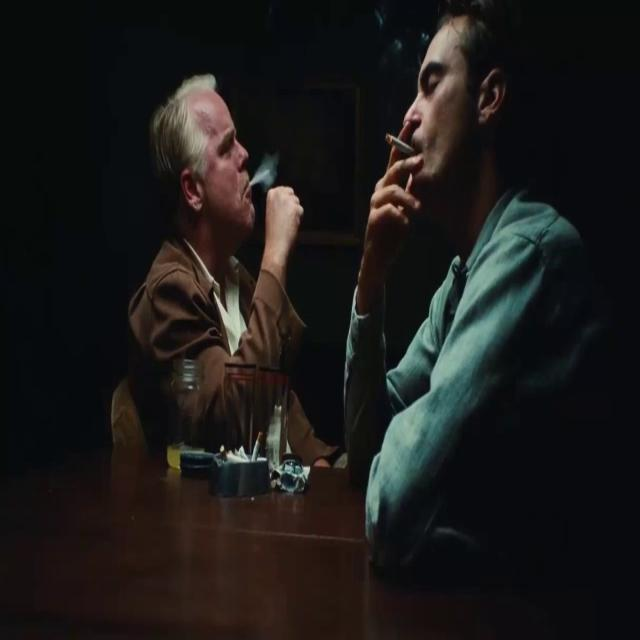Smooking: (380, 129, 417, 155)
